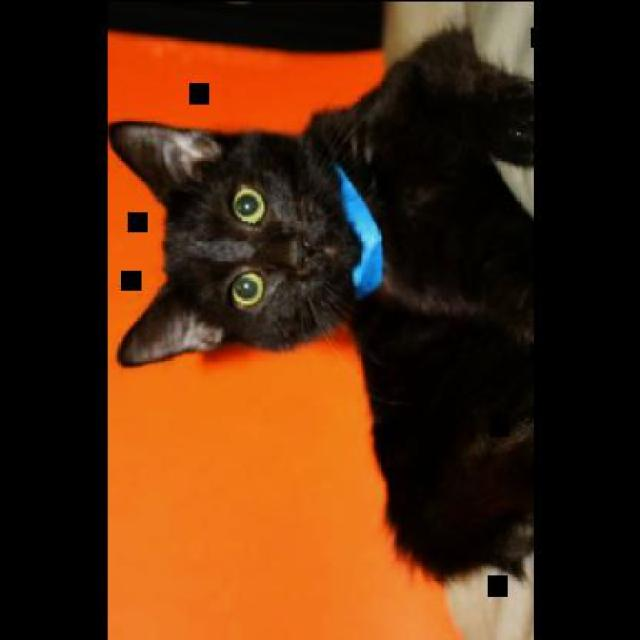unauthorized: (108, 21, 535, 638)
